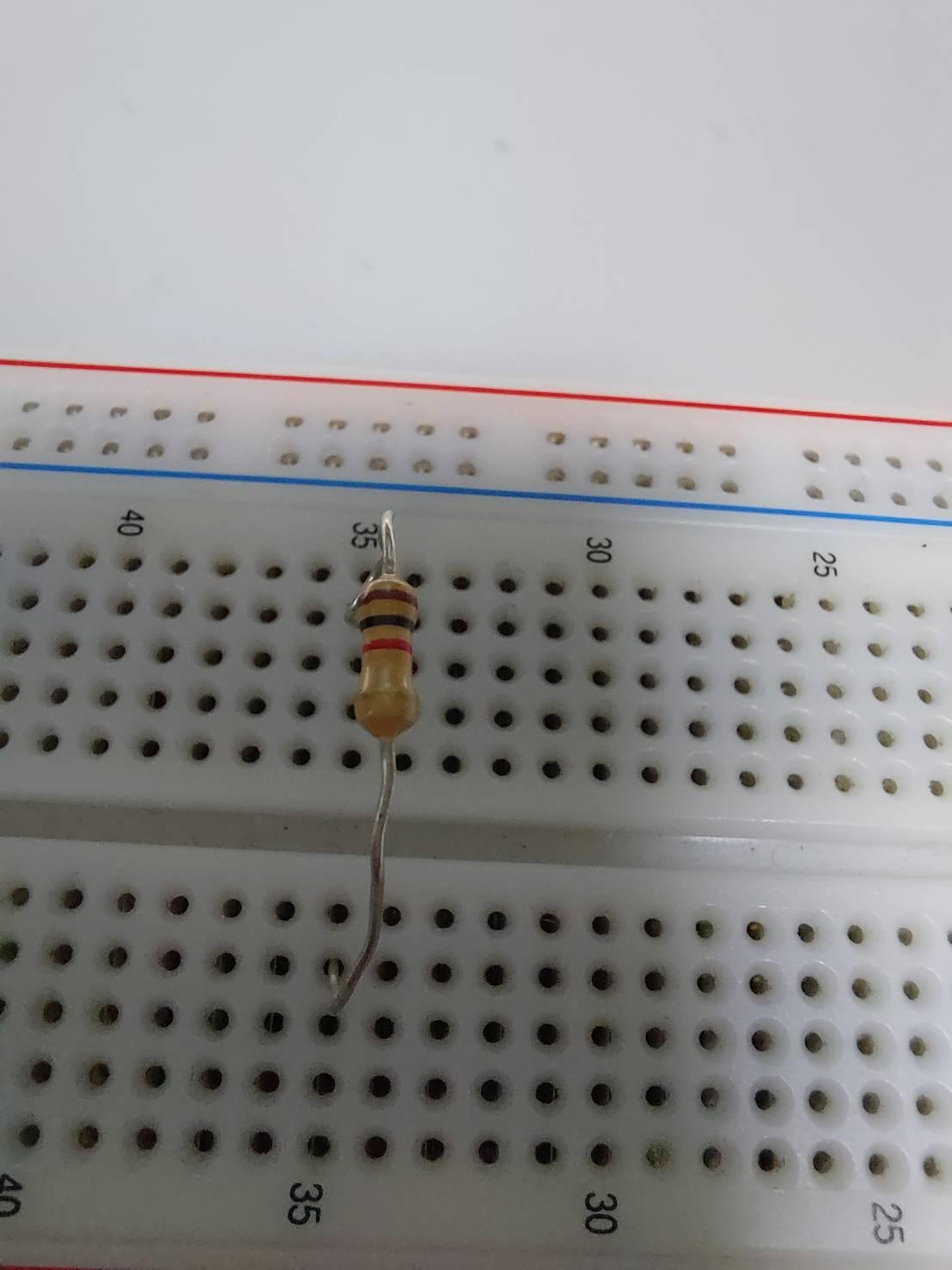resistor: (355, 571, 422, 736)
